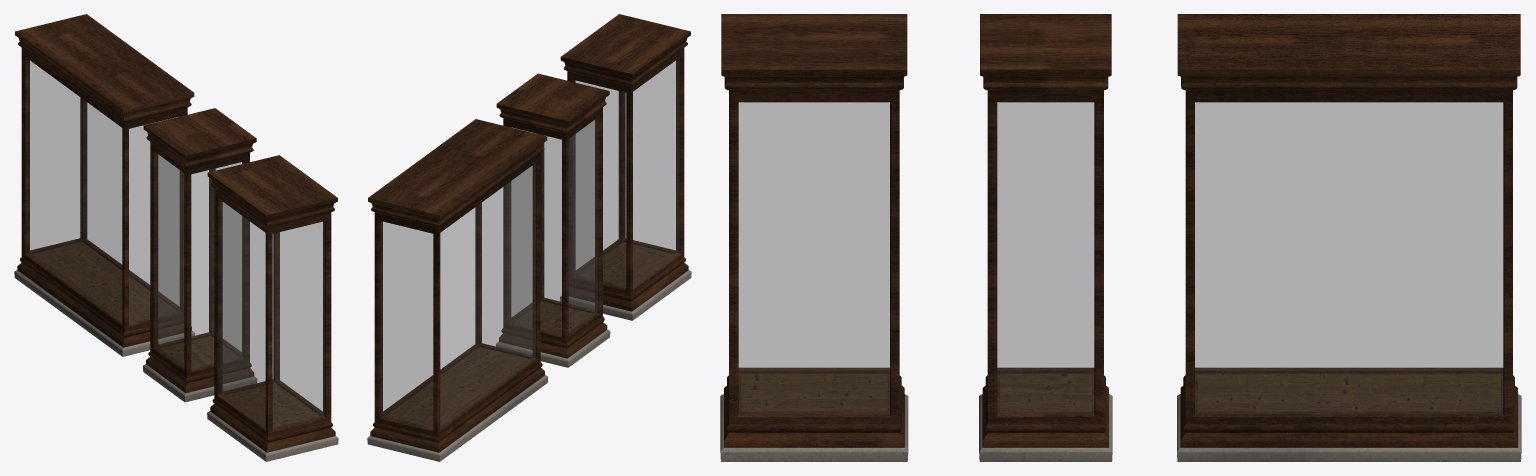
The model's file is showcases_-_asset_pack.glb.
3 renders of one model, left to right at view 1: azimuth 30°, elevation 25°; view 2: azimuth 150°, elevation 25°; view 3: azimuth 270°, elevation 25°, orthographic. The views are drawn at different scales.
Visible parts, largest first — view 1: ShowcaseGross_3, Glass.ShowcaseTall_2, Glass.ShowcaseMedium_0, ShowcaseMittel_5, ShowcaseKlein_4, Glass.ShowcaseSmall_1; view 2: Glass.ShowcaseTall_2, ShowcaseGross_3, ShowcaseMittel_5, Glass.ShowcaseMedium_0, ShowcaseKlein_4, Glass.ShowcaseSmall_1; view 3: Glass.ShowcaseTall_2, ShowcaseGross_3, Glass.ShowcaseMedium_0, ShowcaseMittel_5, Glass.ShowcaseSmall_1, ShowcaseKlein_4.
Boxes of the visible parts, x1,y1,x2,y2 form: ShowcaseGross_3: (14,14,195,356); Glass.ShowcaseTall_2: (26,58,179,324); Glass.ShowcaseMedium_0: (219,199,324,429); ShowcaseMittel_5: (207,155,338,461); ShowcaseKlein_4: (143,108,257,402); Glass.ShowcaseSmall_1: (155,152,243,369); Glass.ShowcaseTall_2: (381,163,535,429); ShowcaseGross_3: (367,119,548,461); ShowcaseMittel_5: (560,14,691,320); Glass.ShowcaseMedium_0: (574,58,679,288); ShowcaseKlein_4: (496,73,610,367); Glass.ShowcaseSmall_1: (511,118,597,335); Glass.ShowcaseTall_2: (1195,102,1502,413); ShowcaseGross_3: (1177,14,1521,461); Glass.ShowcaseMedium_0: (739,102,889,413); ShowcaseMittel_5: (720,14,908,461); Glass.ShowcaseSmall_1: (997,102,1093,413); ShowcaseKlein_4: (979,14,1112,461).
Bounding box in the file's own units: 0.7533 × 2.44 × 4.52.
Materials: 4 (3 with a texture image).
